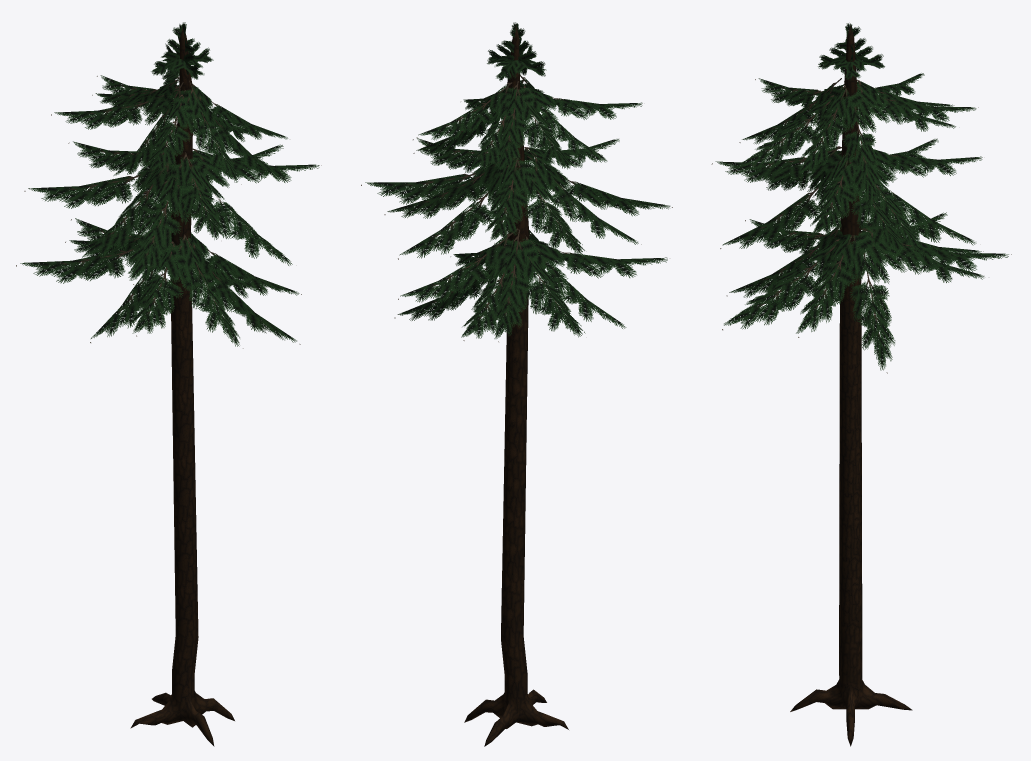
Rendered from Mesh_Environment_Tree_Pine_03.FBX.
3 views of the same model, side by side, from view 1: azimuth 30°, elevation 25°; view 2: azimuth 150°, elevation 25°; view 3: azimuth 270°, elevation 25° (orthographic).
Visible parts, largest first — view 1: Mesh_Environment_Tree_Pine_03; view 2: Mesh_Environment_Tree_Pine_03; view 3: Mesh_Environment_Tree_Pine_03.
Part boxes in pixels (box(x1,y1,x2,y2)): Mesh_Environment_Tree_Pine_03: box(16, 22, 321, 746); Mesh_Environment_Tree_Pine_03: box(361, 22, 672, 746); Mesh_Environment_Tree_Pine_03: box(711, 23, 1011, 746).
Size of the model in its own units: 4.63 by 11.86 by 4.77.
